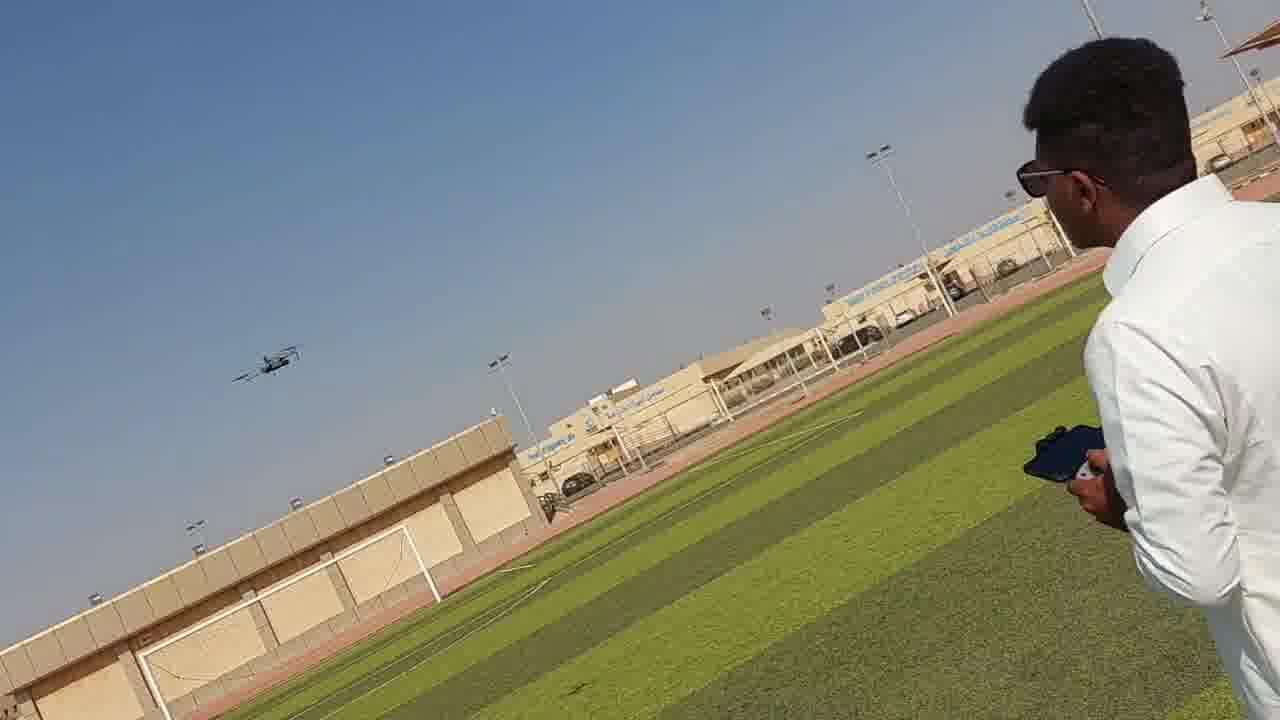drone: (224, 338, 310, 389)
